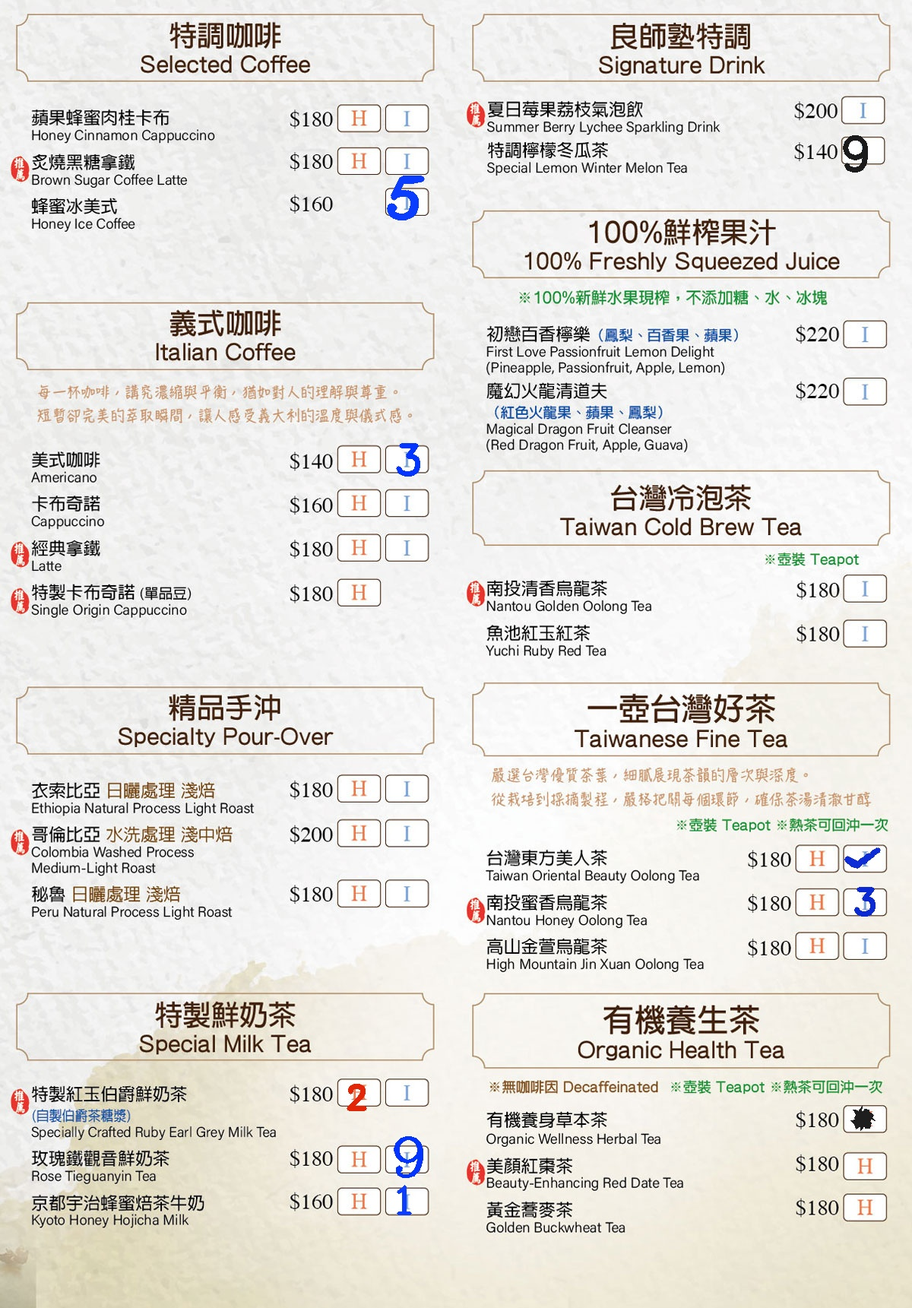marked_circle: (846, 1106, 885, 1129)
marked_number_1: (387, 1189, 426, 1212)
marked_number_2: (342, 1080, 381, 1104)
marked_number_3: (844, 890, 883, 914), (388, 446, 426, 470)
marked_number_5: (387, 190, 426, 214)
marked_number_9: (842, 138, 881, 162), (388, 1148, 426, 1171)
marked_tick: (844, 845, 883, 869)
